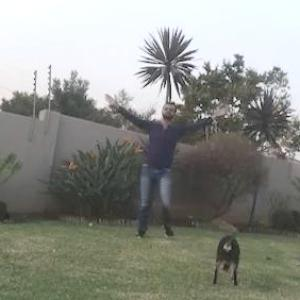takeoff: (115, 94, 236, 238)
